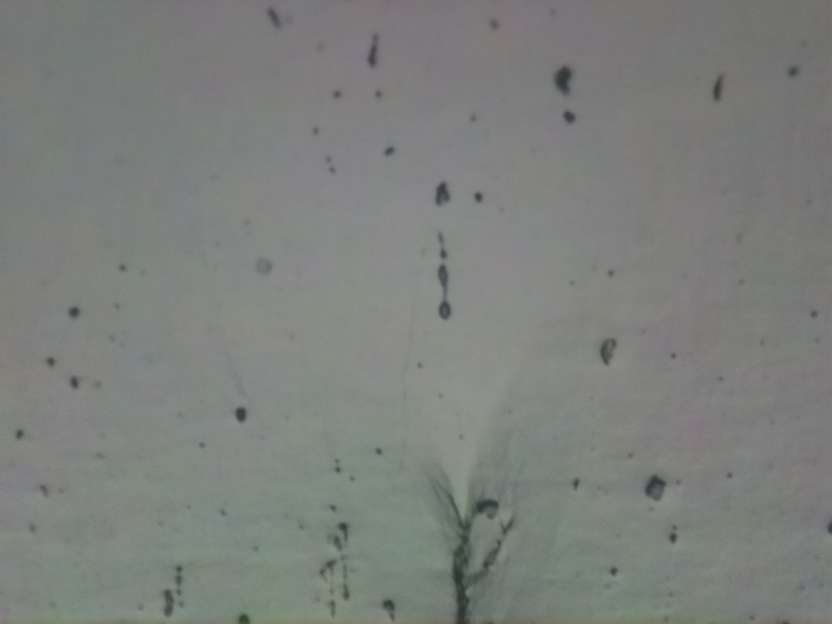crack: (437, 489, 519, 624)
